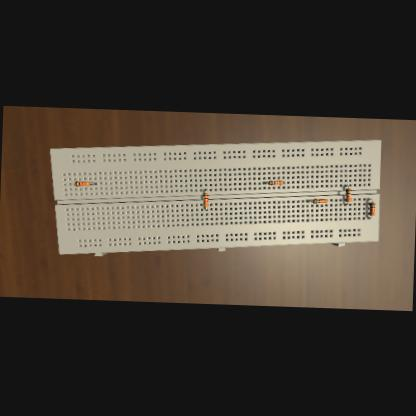breadboard: (47, 128, 382, 266)
resistor: (75, 180, 91, 186), (313, 198, 328, 204), (346, 188, 352, 202), (369, 202, 375, 215), (269, 180, 283, 185), (204, 193, 209, 207)
wire: (345, 184, 349, 188), (368, 198, 373, 201), (263, 182, 268, 184), (367, 216, 372, 218), (344, 202, 348, 204), (73, 183, 75, 184), (284, 182, 284, 183)
